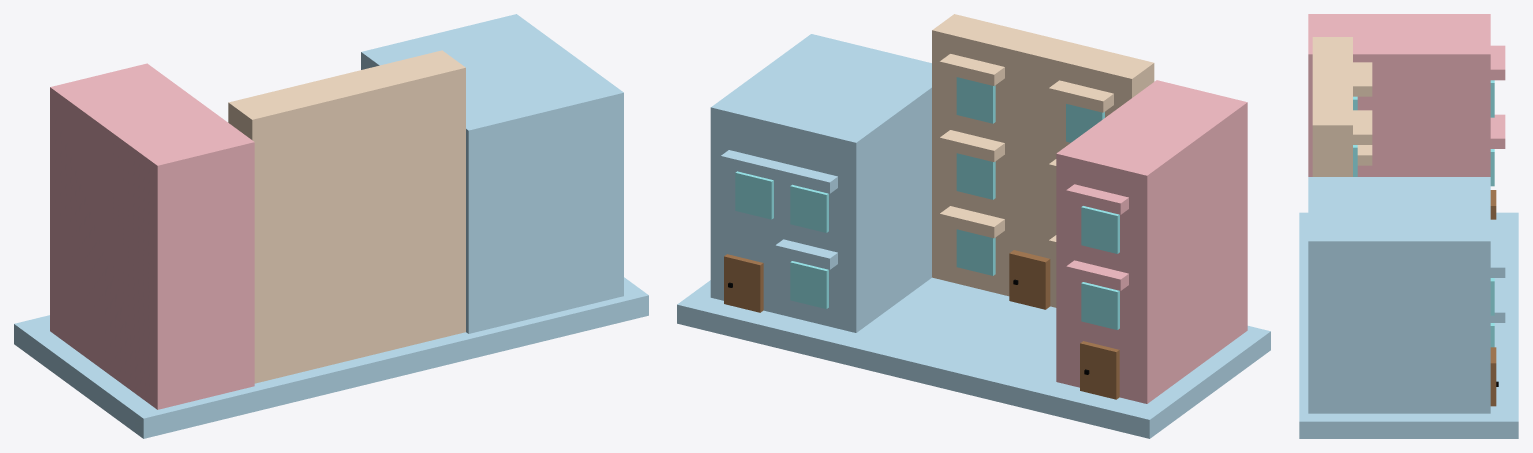
The model's file is MainMenuBuilding.glb.
The picture shows the model from 3 angles, left to right: view 1: azimuth 30°, elevation 25°; view 2: azimuth 150°, elevation 25°; view 3: azimuth 270°, elevation 25°; orthographic projection. The views are drawn at different scales.
Visible parts, largest first — view 1: Cube; view 2: Cube; view 3: Cube.
Part boxes in pixels (x1,y1,x2,y2): Cube: [14, 14, 648, 438]; Cube: [677, 14, 1270, 438]; Cube: [1299, 14, 1518, 438].
Size of the model in its own units: 26 by 14 by 11.54.
